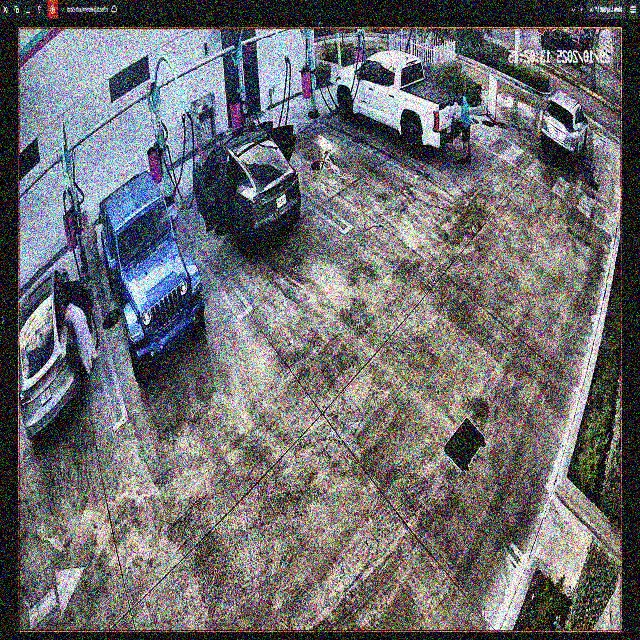Car: (100, 175, 203, 376), (192, 116, 298, 250)
